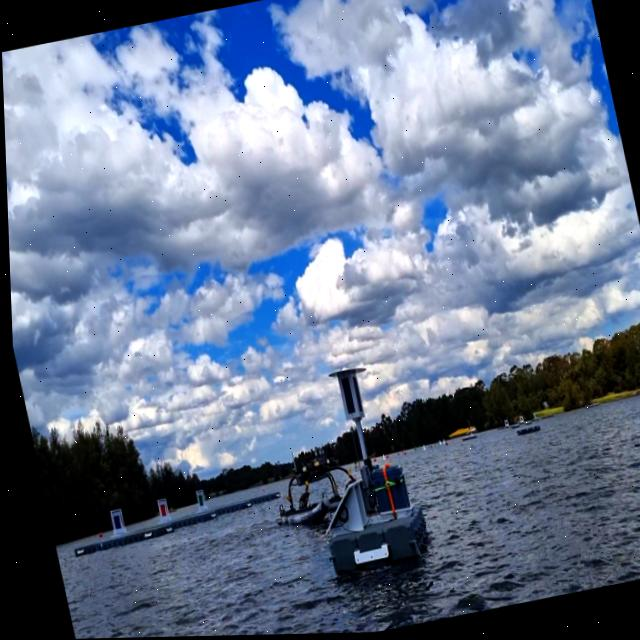led: (335, 375, 354, 417)
